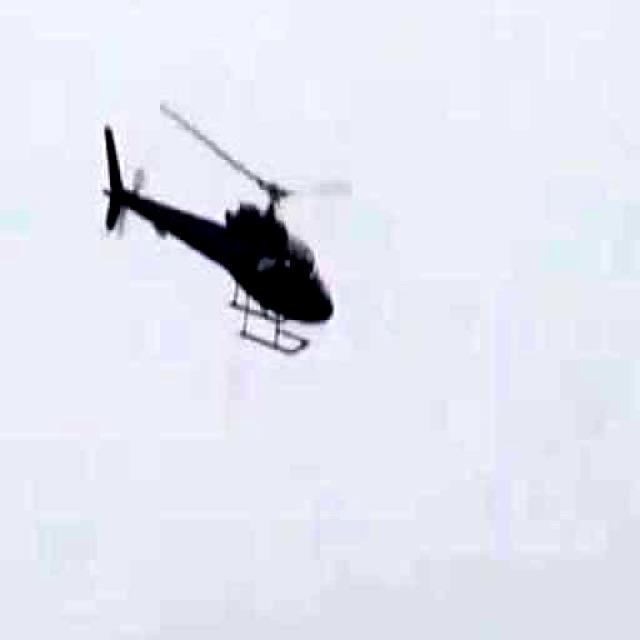drone: (98, 90, 339, 400)
